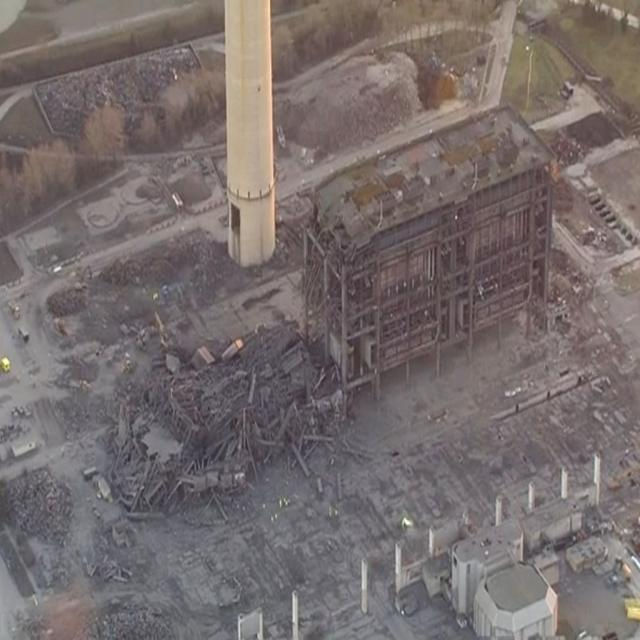collapsed_building: (120, 278, 340, 528)
